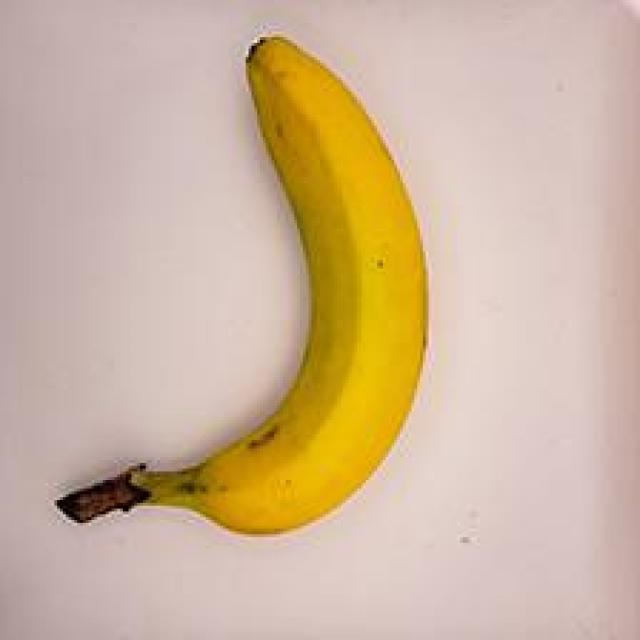ripe: (52, 22, 445, 570)
